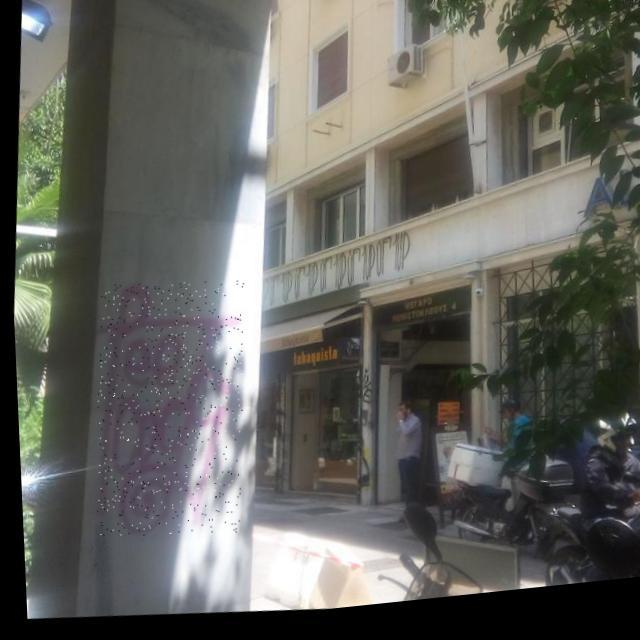-: (80, 274, 252, 548)
